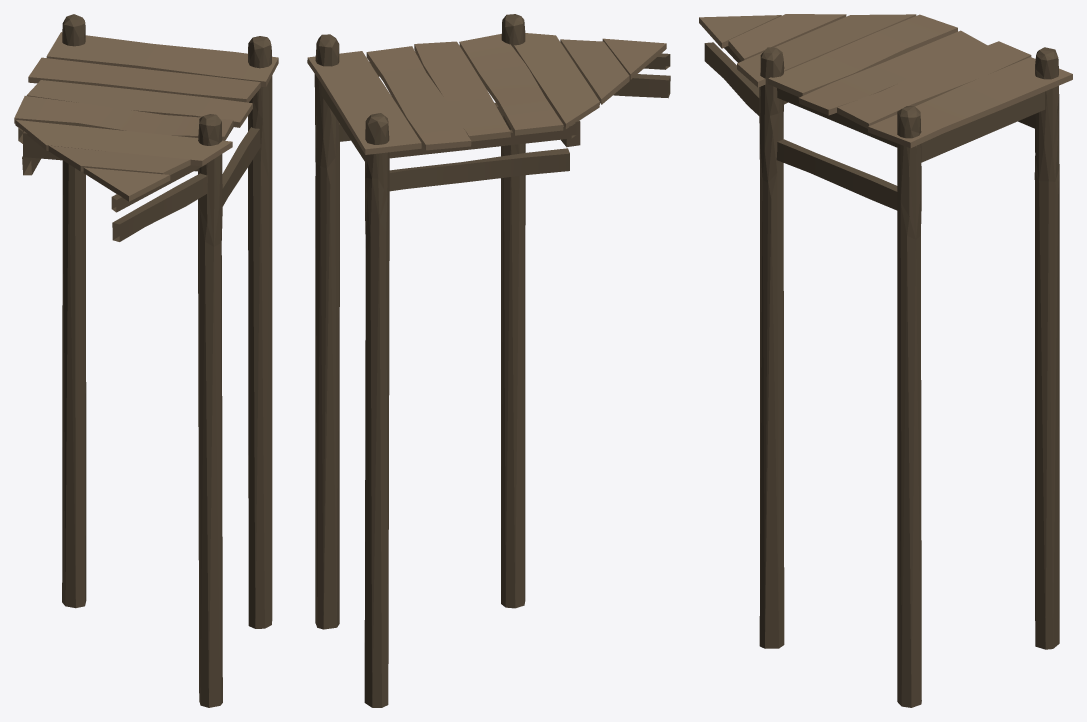
File: port_wooden_bridge_a_corner.FBX
The picture shows the model from 3 angles, left to right: view 1: azimuth 30°, elevation 25°; view 2: azimuth 150°, elevation 25°; view 3: azimuth 270°, elevation 25°; orthographic projection.
Parts seen in each view (by area): view 1: port_wooden_bridge_a_corner; view 2: port_wooden_bridge_a_corner; view 3: port_wooden_bridge_a_corner.
Part boxes in pixels (x1,y1,x2,y2): port_wooden_bridge_a_corner: [14, 14, 278, 707]; port_wooden_bridge_a_corner: [307, 14, 670, 707]; port_wooden_bridge_a_corner: [699, 14, 1072, 707].
Bounding box in the file's own units: 4.88 × 10.36 × 5.91.
